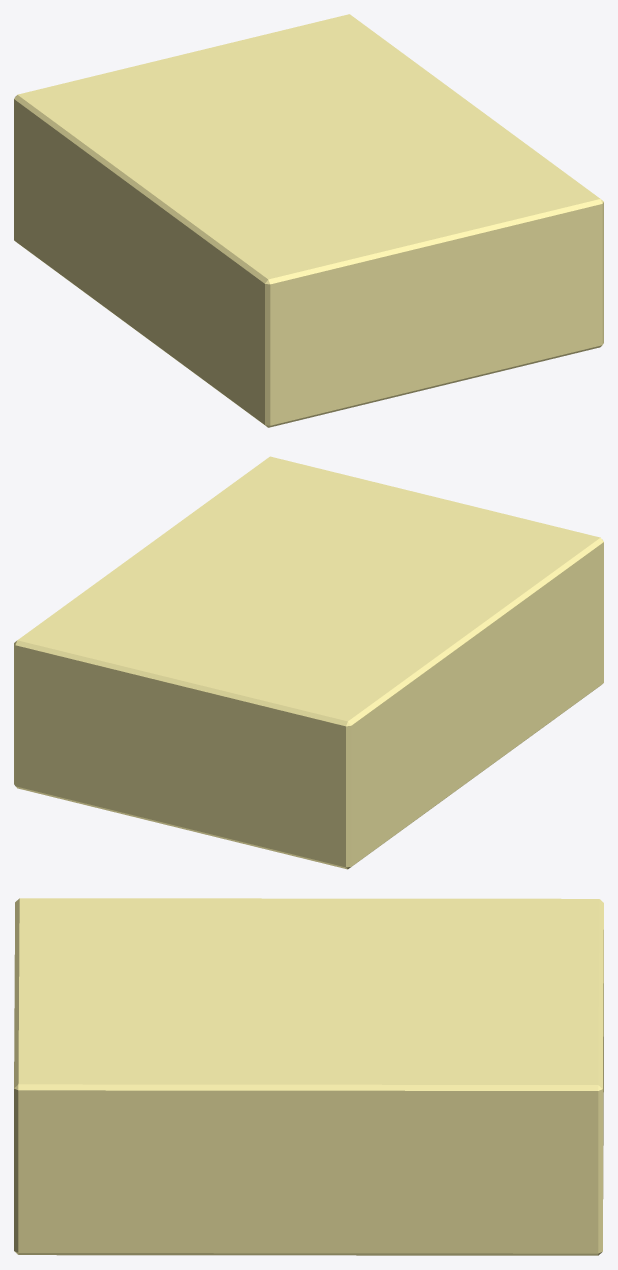
File: Fridgerer_Dumpling_Box.glb
3 views of the same model, one above another, from view 1: azimuth 30°, elevation 25°; view 2: azimuth 150°, elevation 25°; view 3: azimuth 270°, elevation 25° (orthographic). The views are drawn at different scales.
Parts seen in each view (by area): view 1: Dumplings; view 2: Dumplings; view 3: Dumplings.
Boxes of the visible parts, x1,y1,x2,y2 form: Dumplings: [14, 14, 603, 427]; Dumplings: [14, 456, 603, 869]; Dumplings: [14, 898, 603, 1255].
Bounding box in the file's own units: 0.2007 × 0.0838 × 0.2625.
